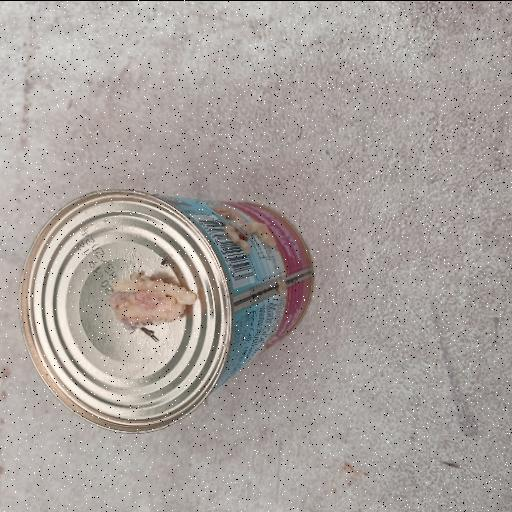Metal: (18, 186, 316, 434)
